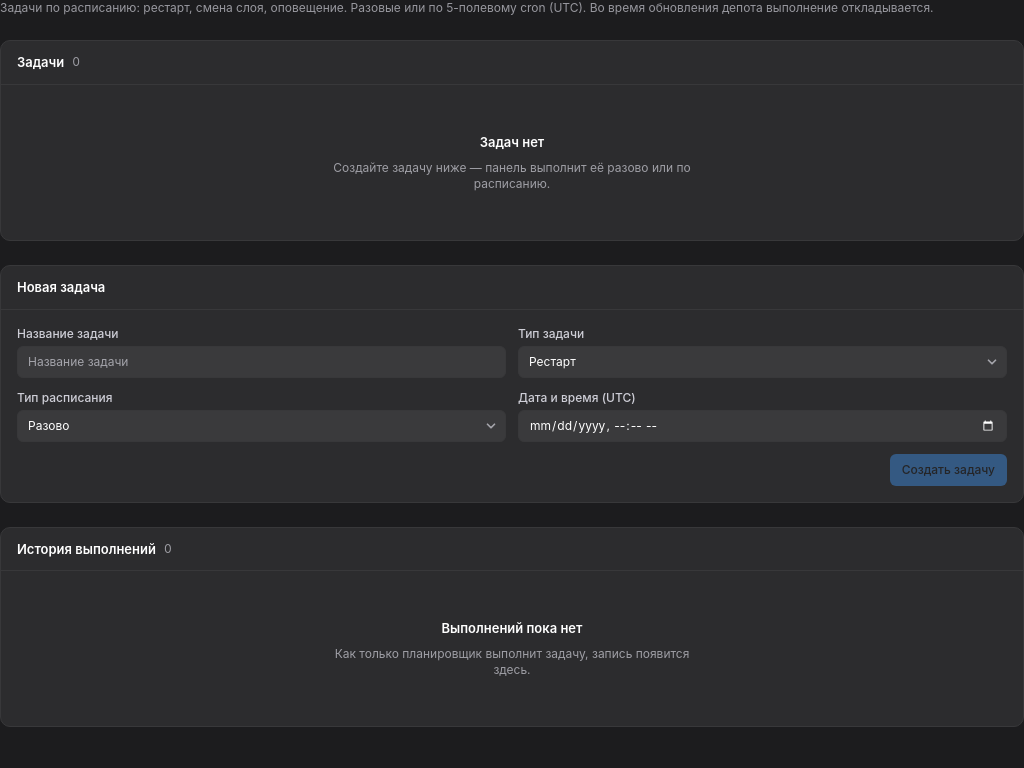
it: SchedulePage › interprets the one-off date as UTC, matching the field label
Expected: the list with test id "scheduled-tasks-list" is shown, [333,134,691,191]
Type "UTC restart" into the field with placeholder "Название задачи" at (262, 362), box [17,346,506,378]
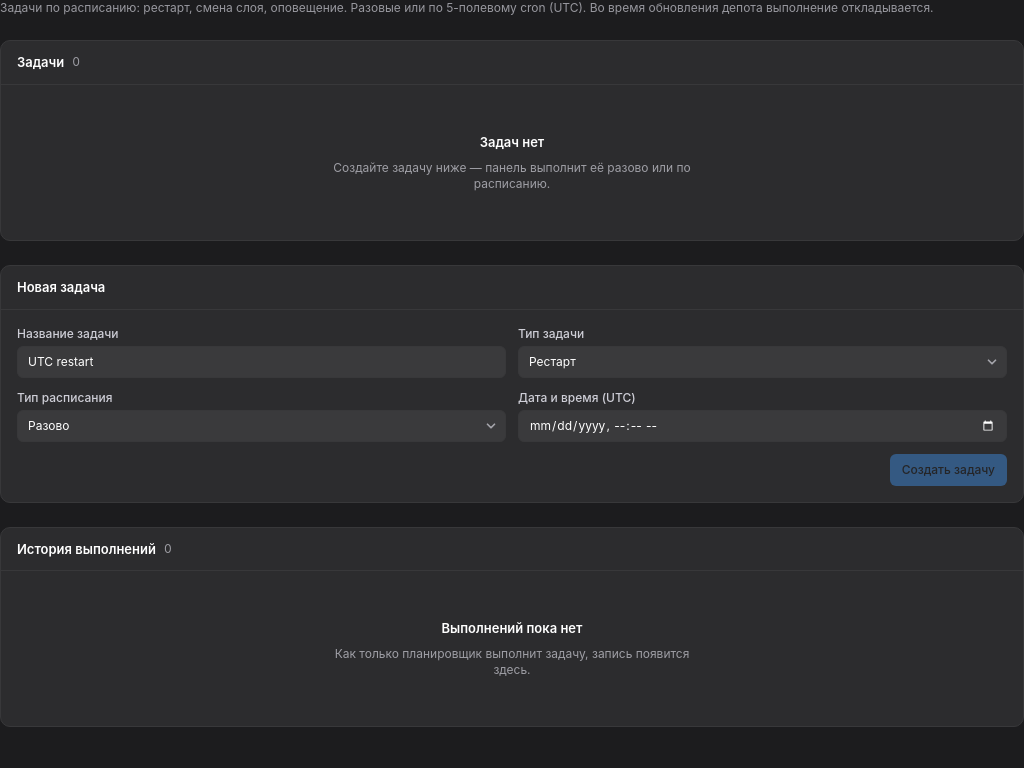
Type "2026-08-01T18:00" into the field labelled "Дата и время (UTC)" at (762, 426), box [518,410,1007,442]
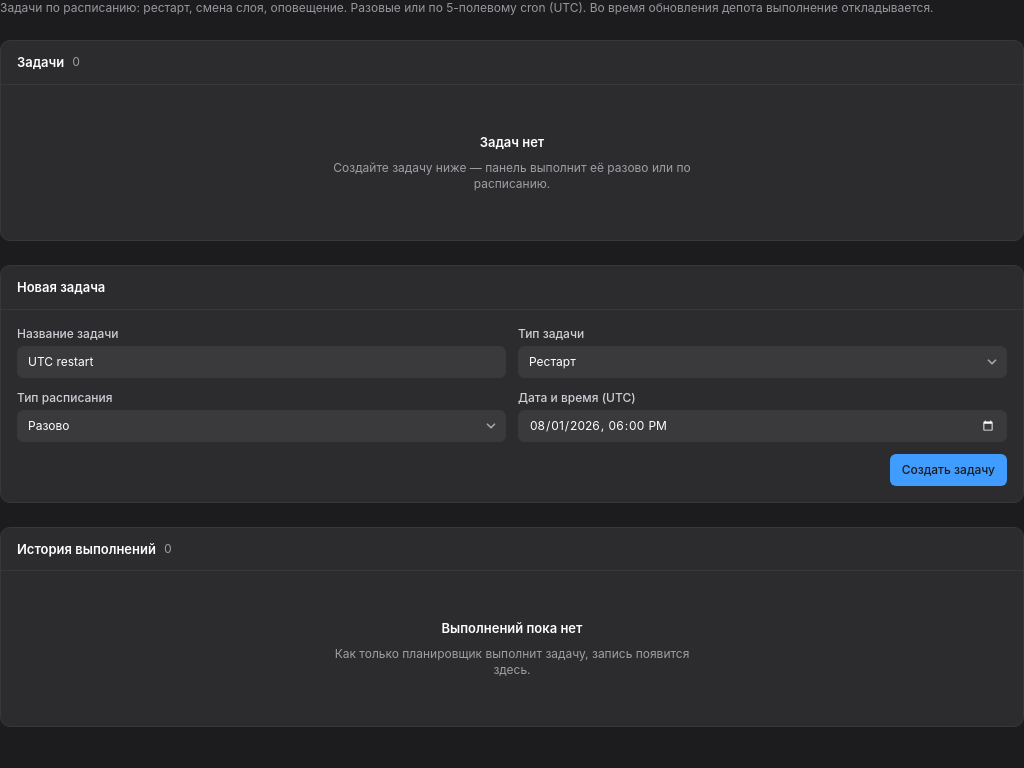
Click the button "Создать задачу" at (948, 470), box [890,454,1007,486]
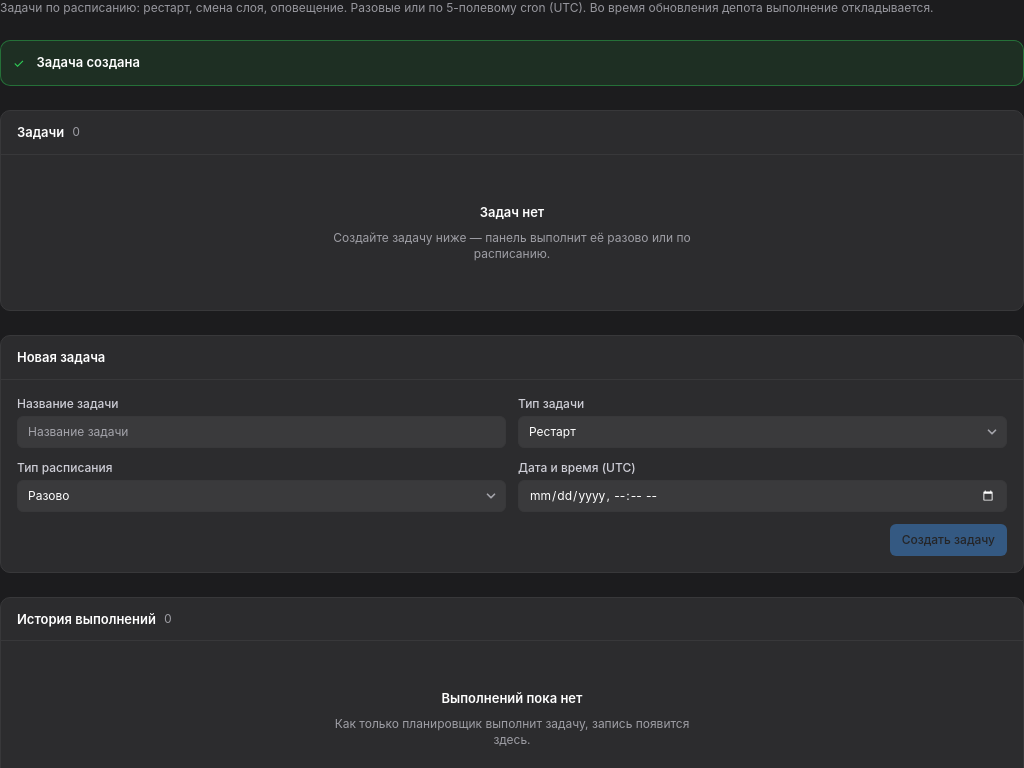
Now the text "Задача создана" is shown, box [36,54,140,70]
